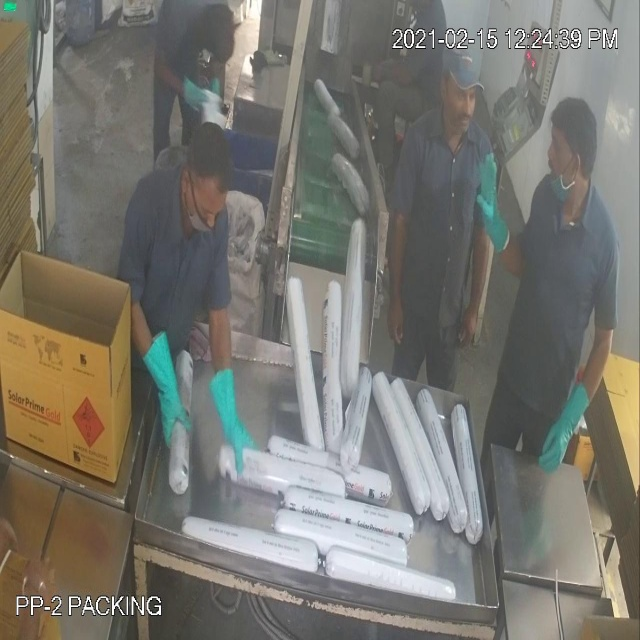Guantes: (530, 371, 595, 483), (141, 308, 186, 447), (206, 364, 257, 479), (478, 156, 514, 264)
Sin_guantes: (463, 214, 498, 363), (382, 190, 410, 353), (363, 40, 421, 106), (152, 52, 184, 97)
